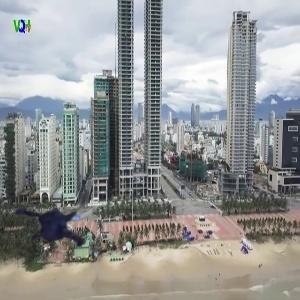drone: (9, 173, 113, 277)
